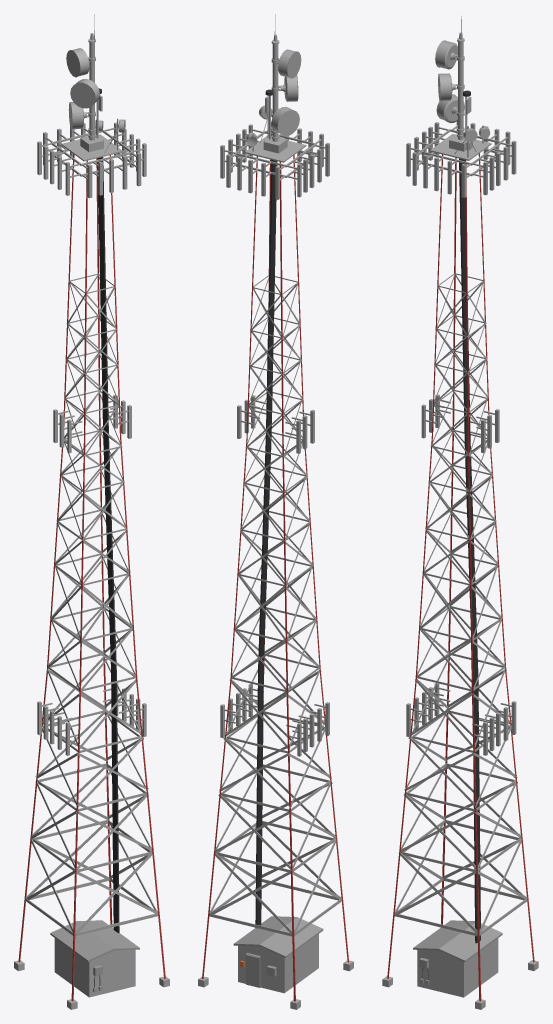
Rendered from antenne.fbx.
3 views of the same model, side by side, from view 1: azimuth 30°, elevation 25°; view 2: azimuth 150°, elevation 25°; view 3: azimuth 330°, elevation 25° (orthographic).
Visible parts, largest first — view 1: Cube.002; view 2: Cube.002; view 3: Cube.002.
Boxes of the visible parts, box(x1,y1,x2,y2) form: Cube.002: box(14, 14, 169, 1009); Cube.002: box(198, 14, 353, 1009); Cube.002: box(382, 16, 538, 1009).
Bounding box in the file's own units: 1304 × 12158 × 1308.
